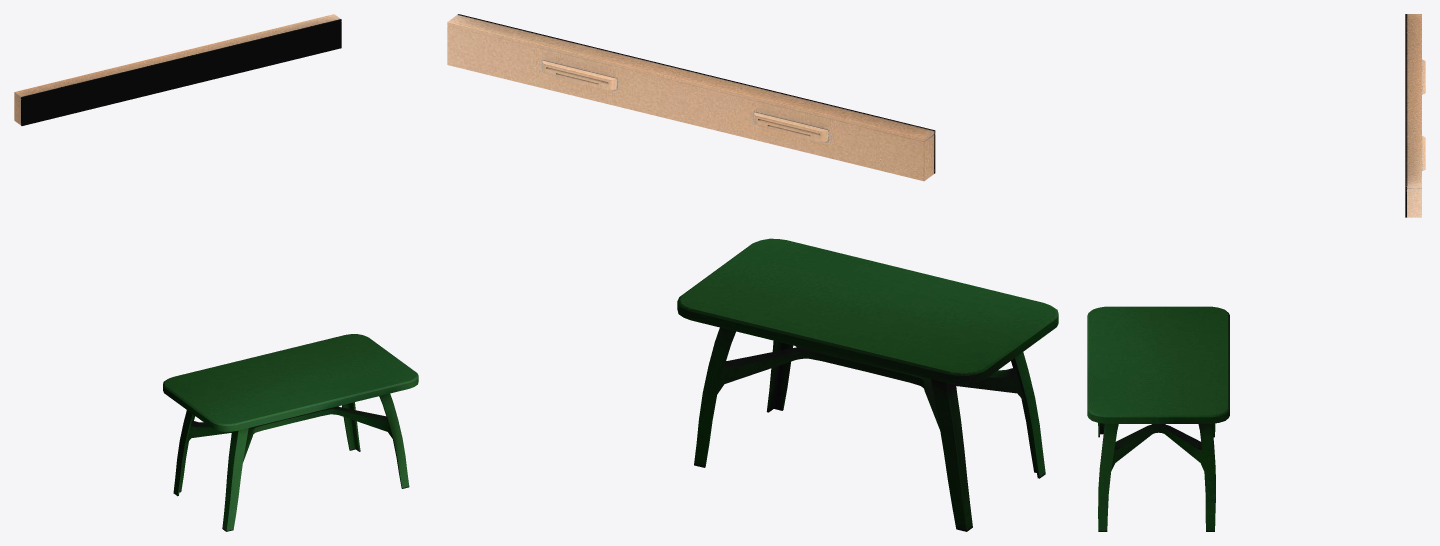
The model's file is SM_LivR_F1.glb.
The picture shows the model from 3 angles, left to right: view 1: azimuth 30°, elevation 25°; view 2: azimuth 150°, elevation 25°; view 3: azimuth 270°, elevation 25°; orthographic projection. The views are drawn at different scales.
Parts seen in each view (by area): view 1: SM_LivR_F1; view 2: SM_LivR_F1; view 3: SM_LivR_F1.
Boxes of the visible parts, x1,y1,x2,y2 form: SM_LivR_F1: (14, 14, 418, 531); SM_LivR_F1: (447, 14, 1058, 531); SM_LivR_F1: (1087, 14, 1425, 531).
Bounding box in the file's own units: 2.44 × 2.54 × 2.02.
Materials: 1 (1 with a texture image).
